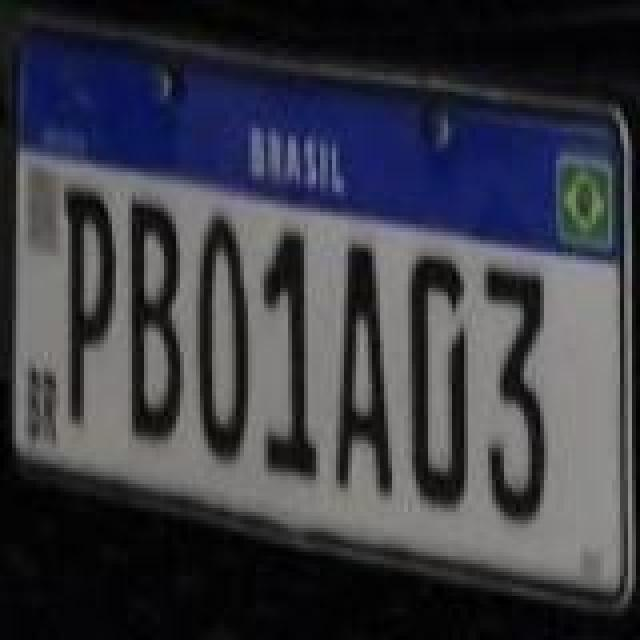1: (258, 228, 318, 484)
3: (484, 266, 548, 526)
A: (334, 240, 394, 496)
B: (132, 196, 188, 444)
D: (410, 256, 470, 512)
O: (198, 216, 250, 464)
P: (62, 186, 114, 422)
